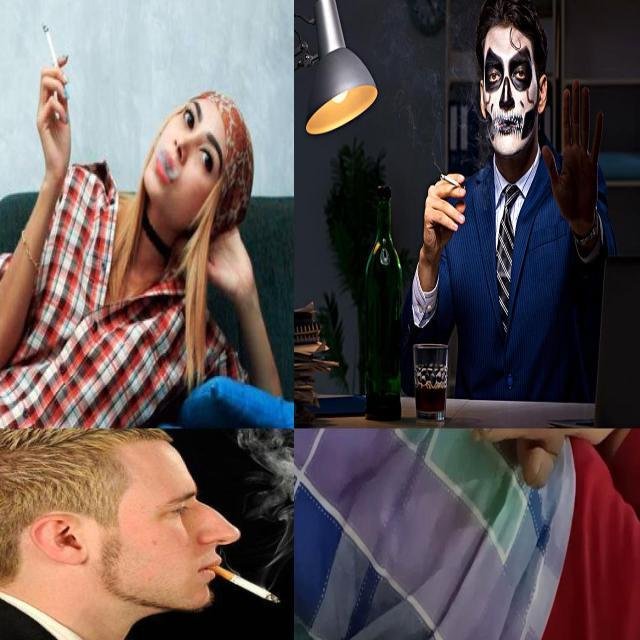smoking: (202, 561, 286, 609), (42, 22, 62, 80), (439, 174, 466, 192)
